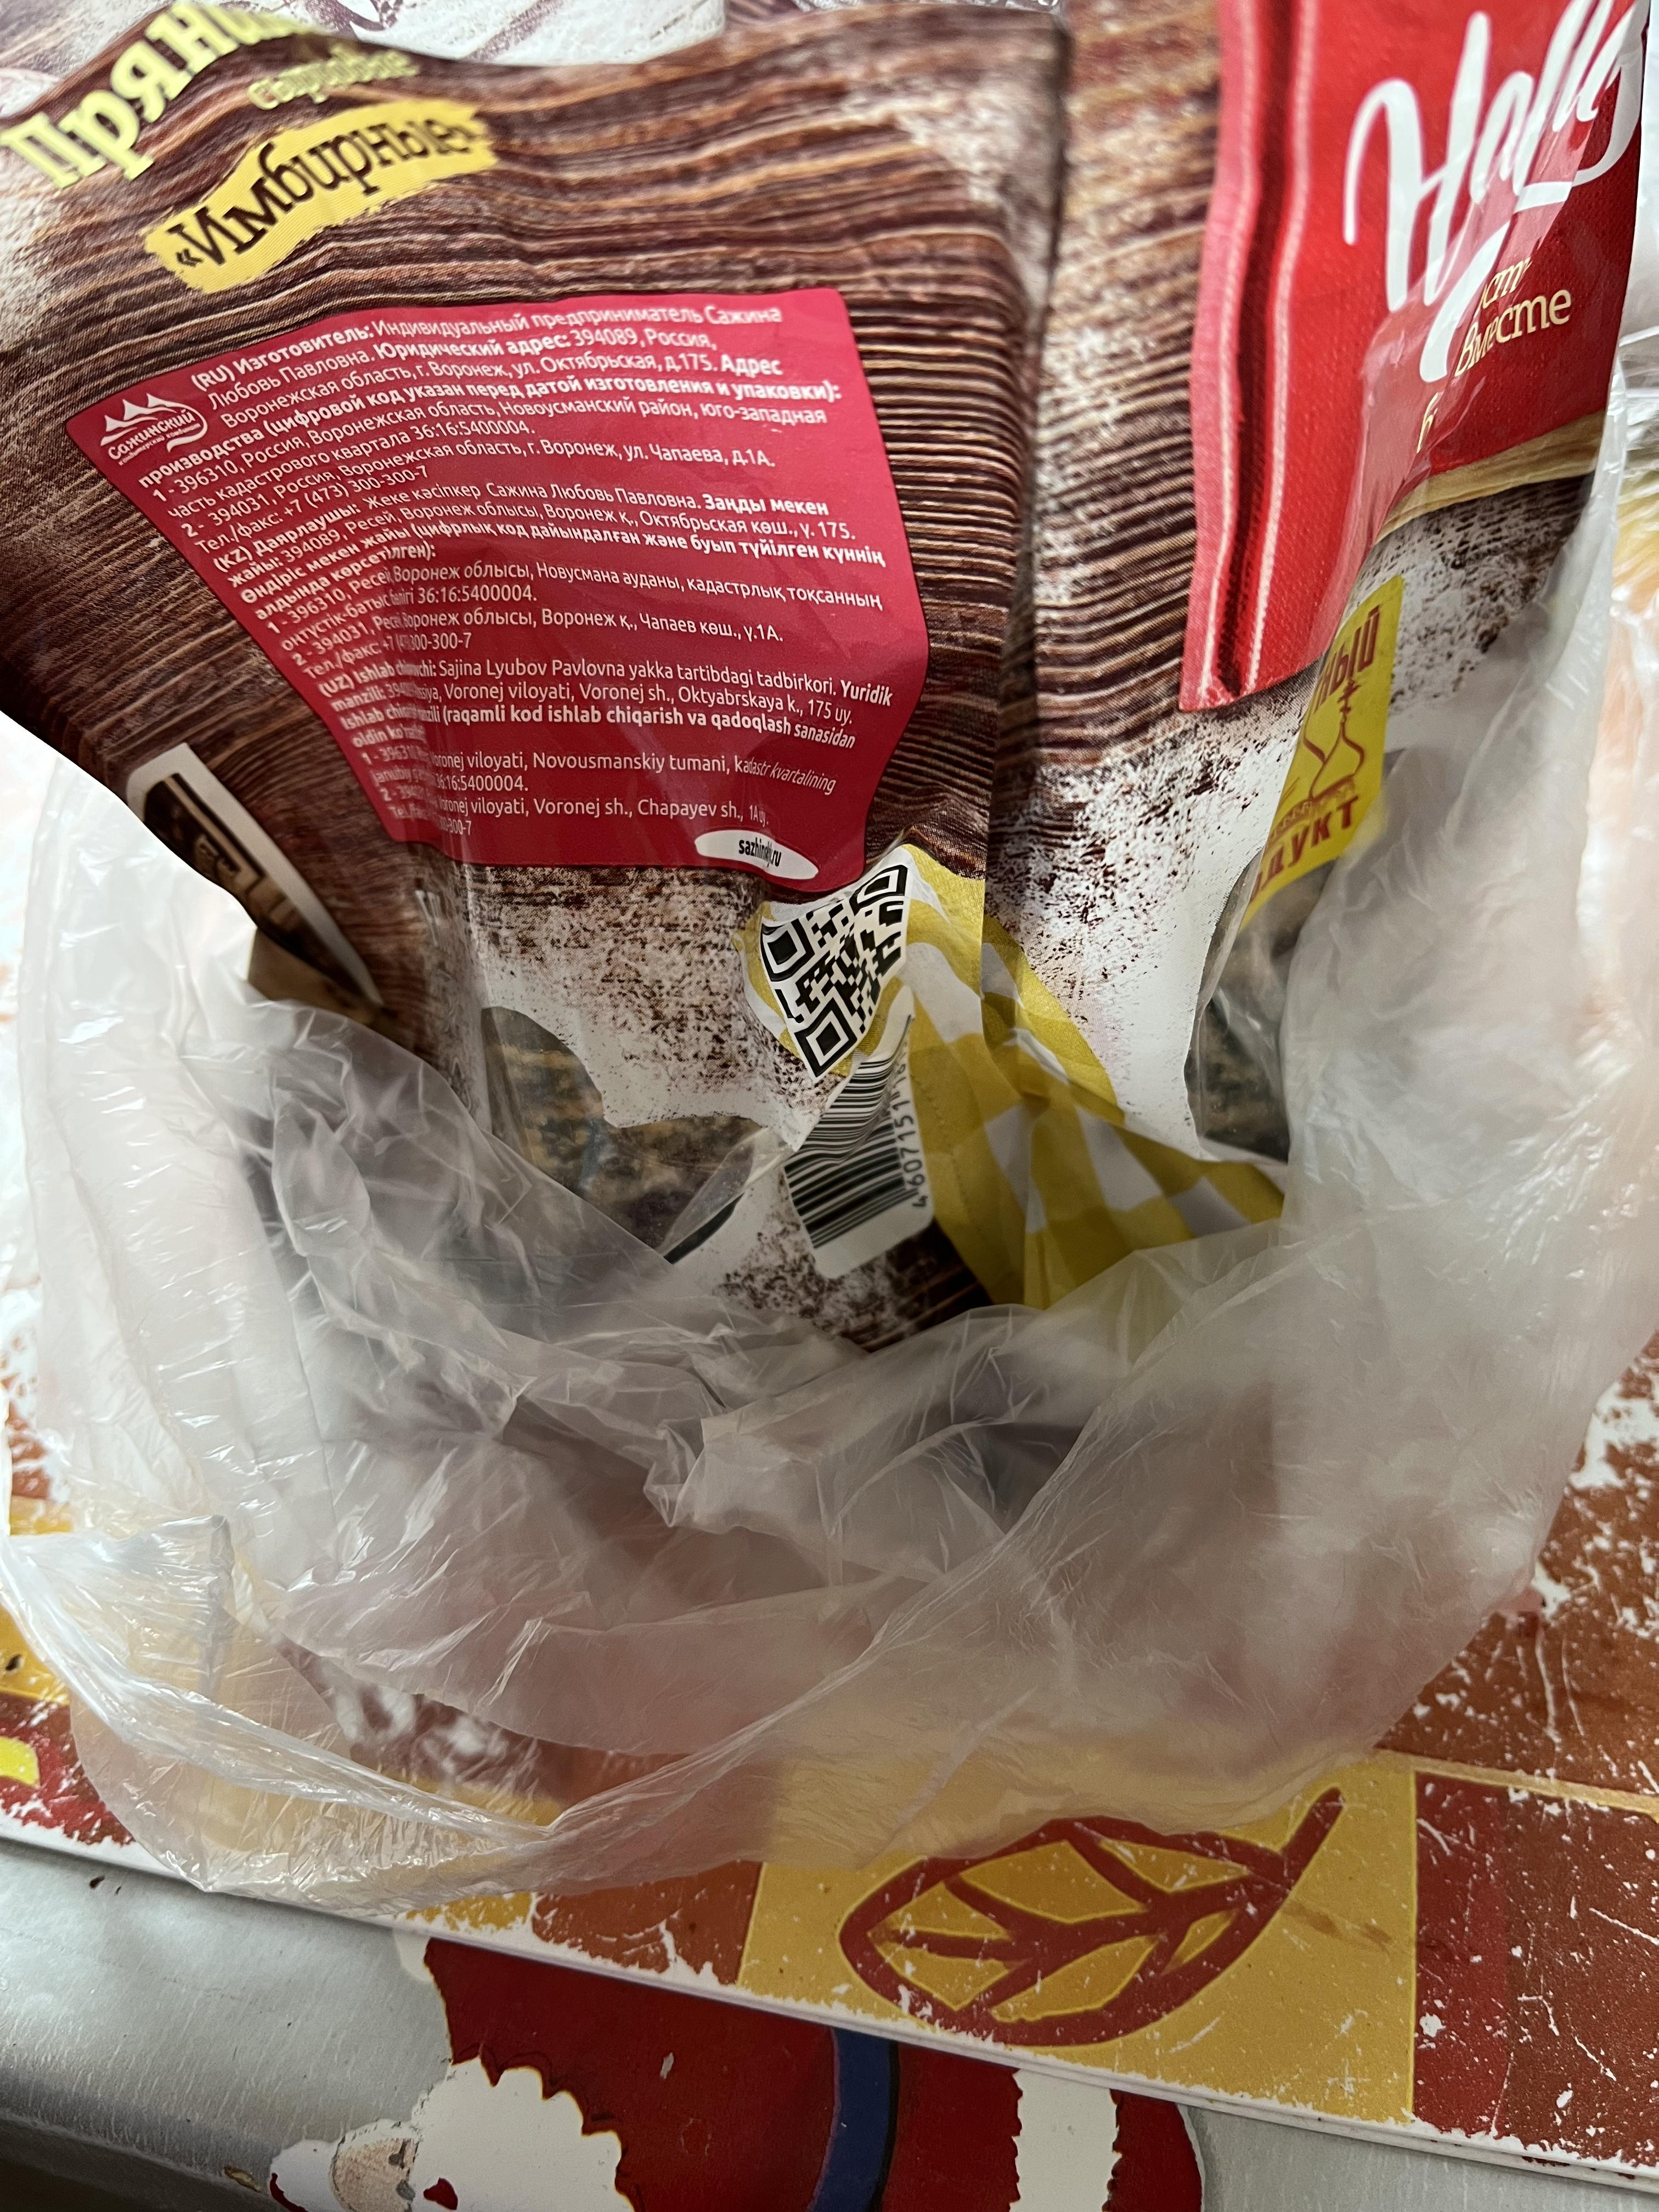qrcode: (755, 859, 913, 1083)
